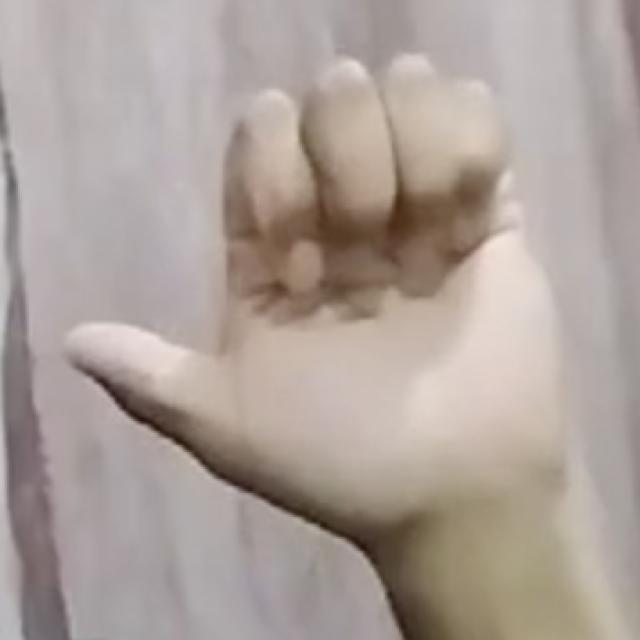A: (47, 42, 592, 551)
